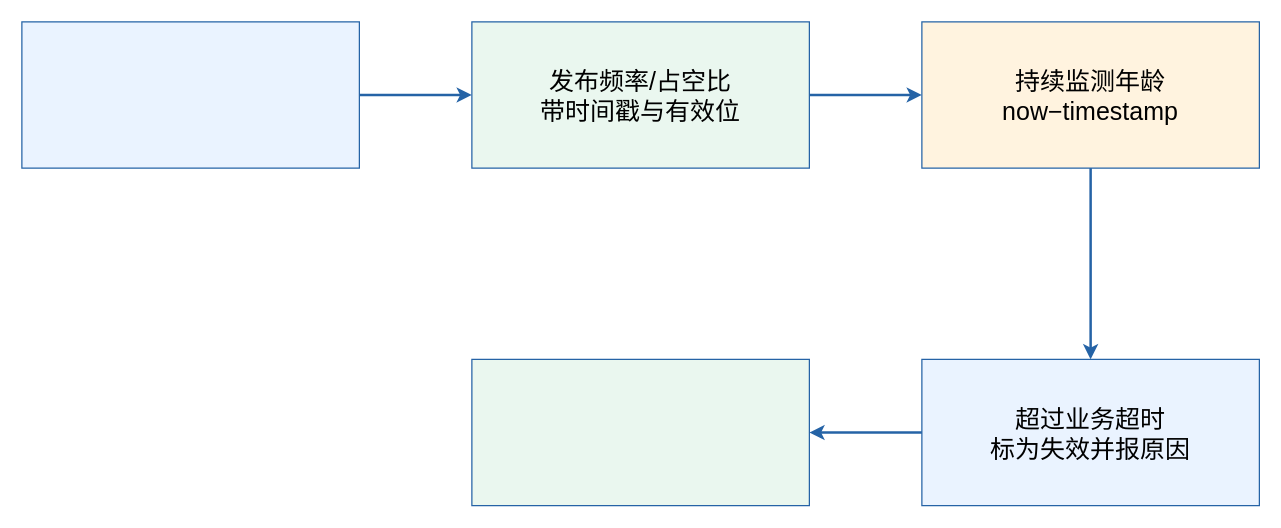
The diagram is 1281 pixels wide and 528 high, and some of its shapes have lost their labels. The centre of each missing label's shape, as x and y in pixels:
收到合法捕获 校验周期/配对: point 190,94
重新捕获 重新配对后恢复有效: point 640,432
